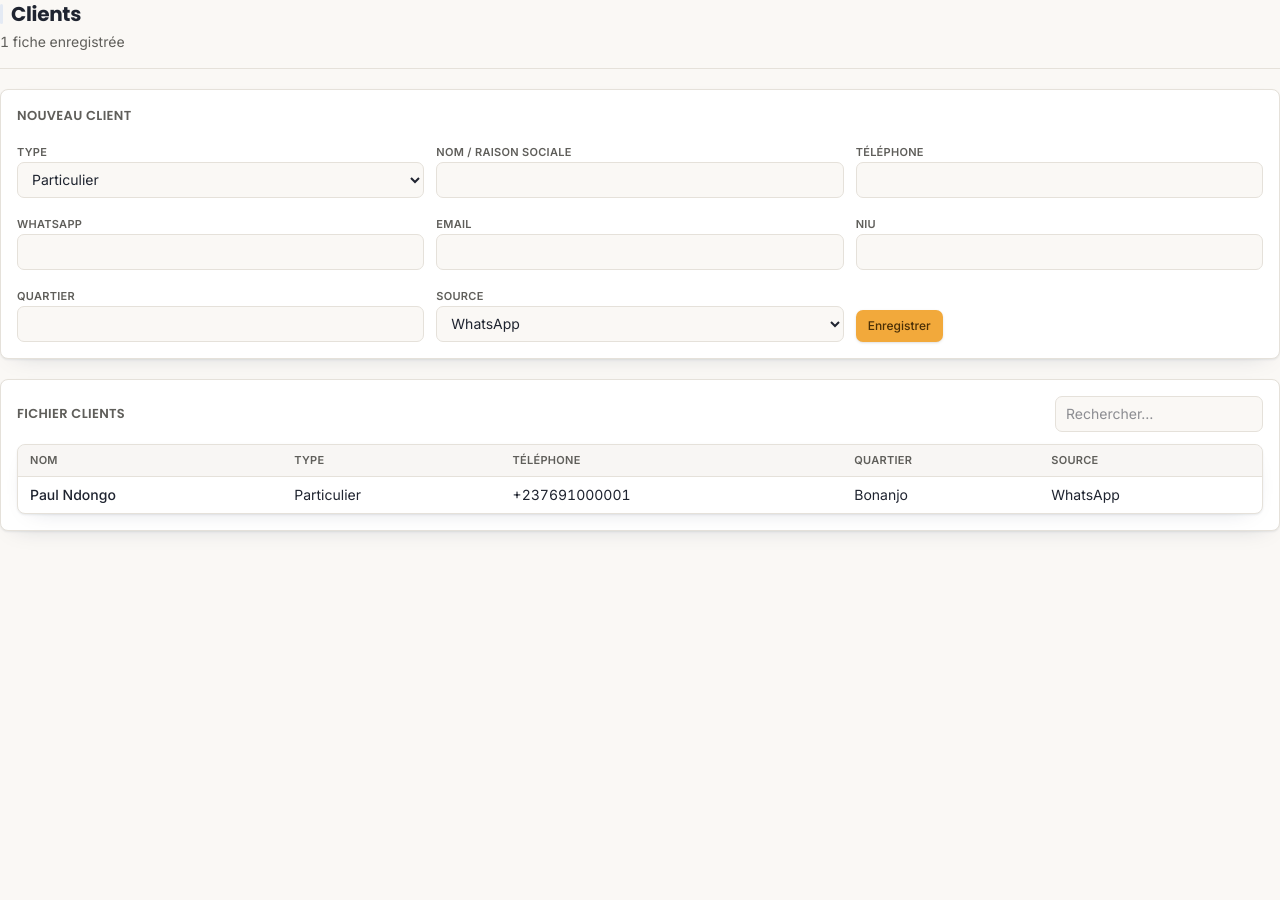
Clients — liste, création avec typologie, fiche + historique › ouvre la fiche client et affiche l'historique des demandes
The image size is (1280, 900).
What coordinates should you click on to do the following:
click the text "Paul Ndongo"
I would click on:
 (73, 495)
Its box is [18, 477, 282, 513].
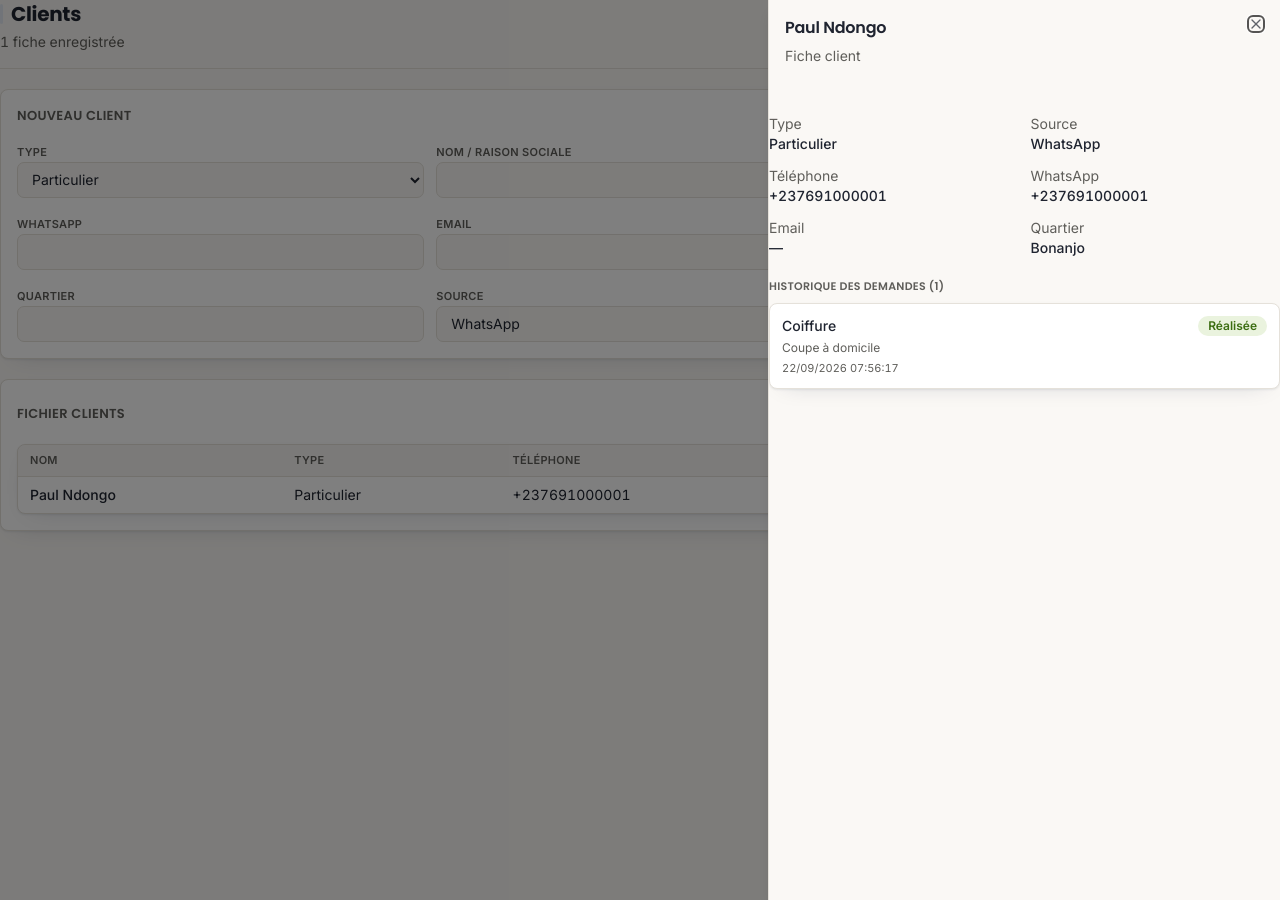
Expected: the heading "Historique des demandes (1)" is shown, [769, 278, 944, 294]
Expected: the text "Coiffure" is shown, [782, 316, 836, 336]
Expected: the text "Coupe à domicile" is shown, [782, 340, 880, 354]
